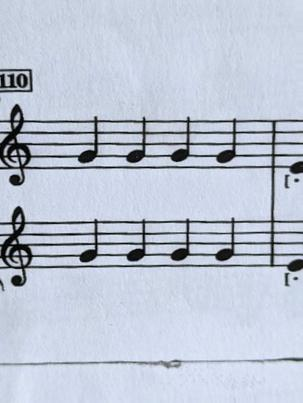G: (71, 112, 103, 172), (68, 218, 104, 271), (164, 115, 195, 174), (120, 218, 152, 272), (122, 118, 151, 172), (212, 117, 240, 172), (214, 216, 240, 274), (167, 216, 193, 271)
